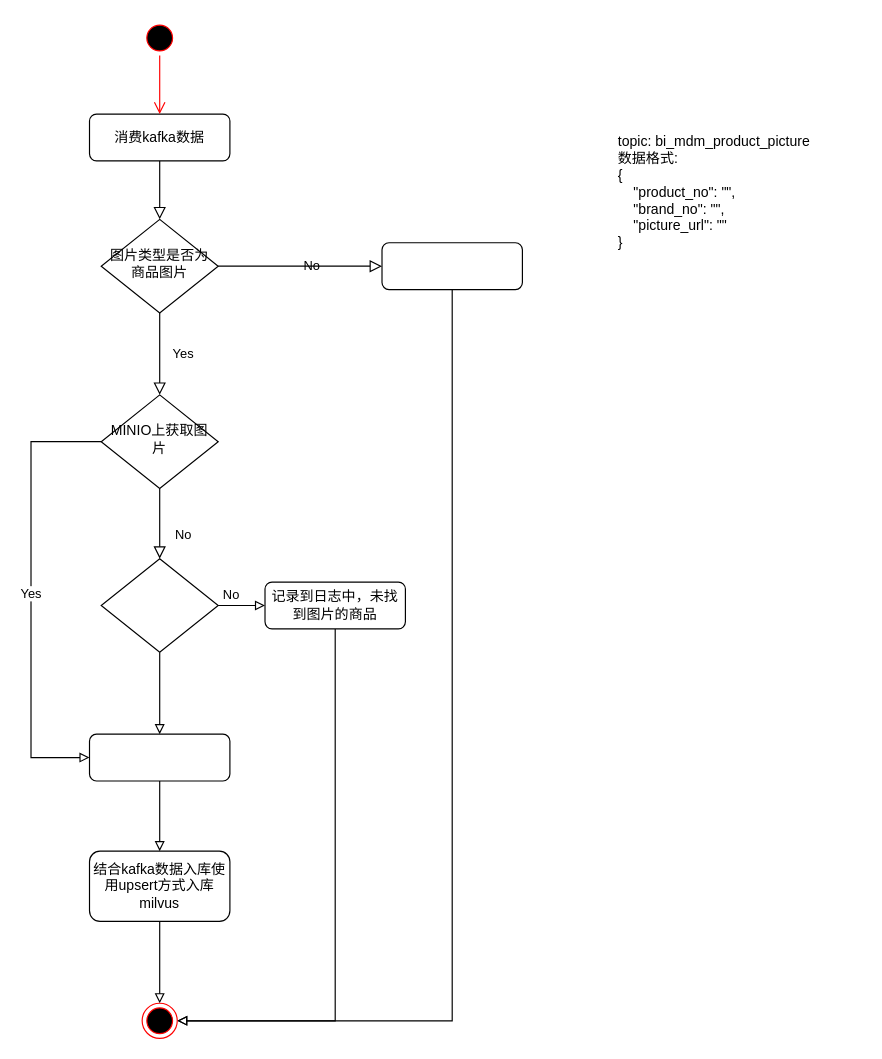
Some shapes in this 882 by 1059 pixel diagram are drawn without their labels. The shapes that lost their labels are listed below. From the top down, each one's centre as x and y in pixels, then its label:
At pixel 451 266: "丢弃".
At pixel 159 605: "Https 获取图片".
At pixel 159 757: "将图片转换为向量".
